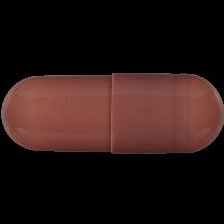51991-820: (0, 0, 224, 224)
